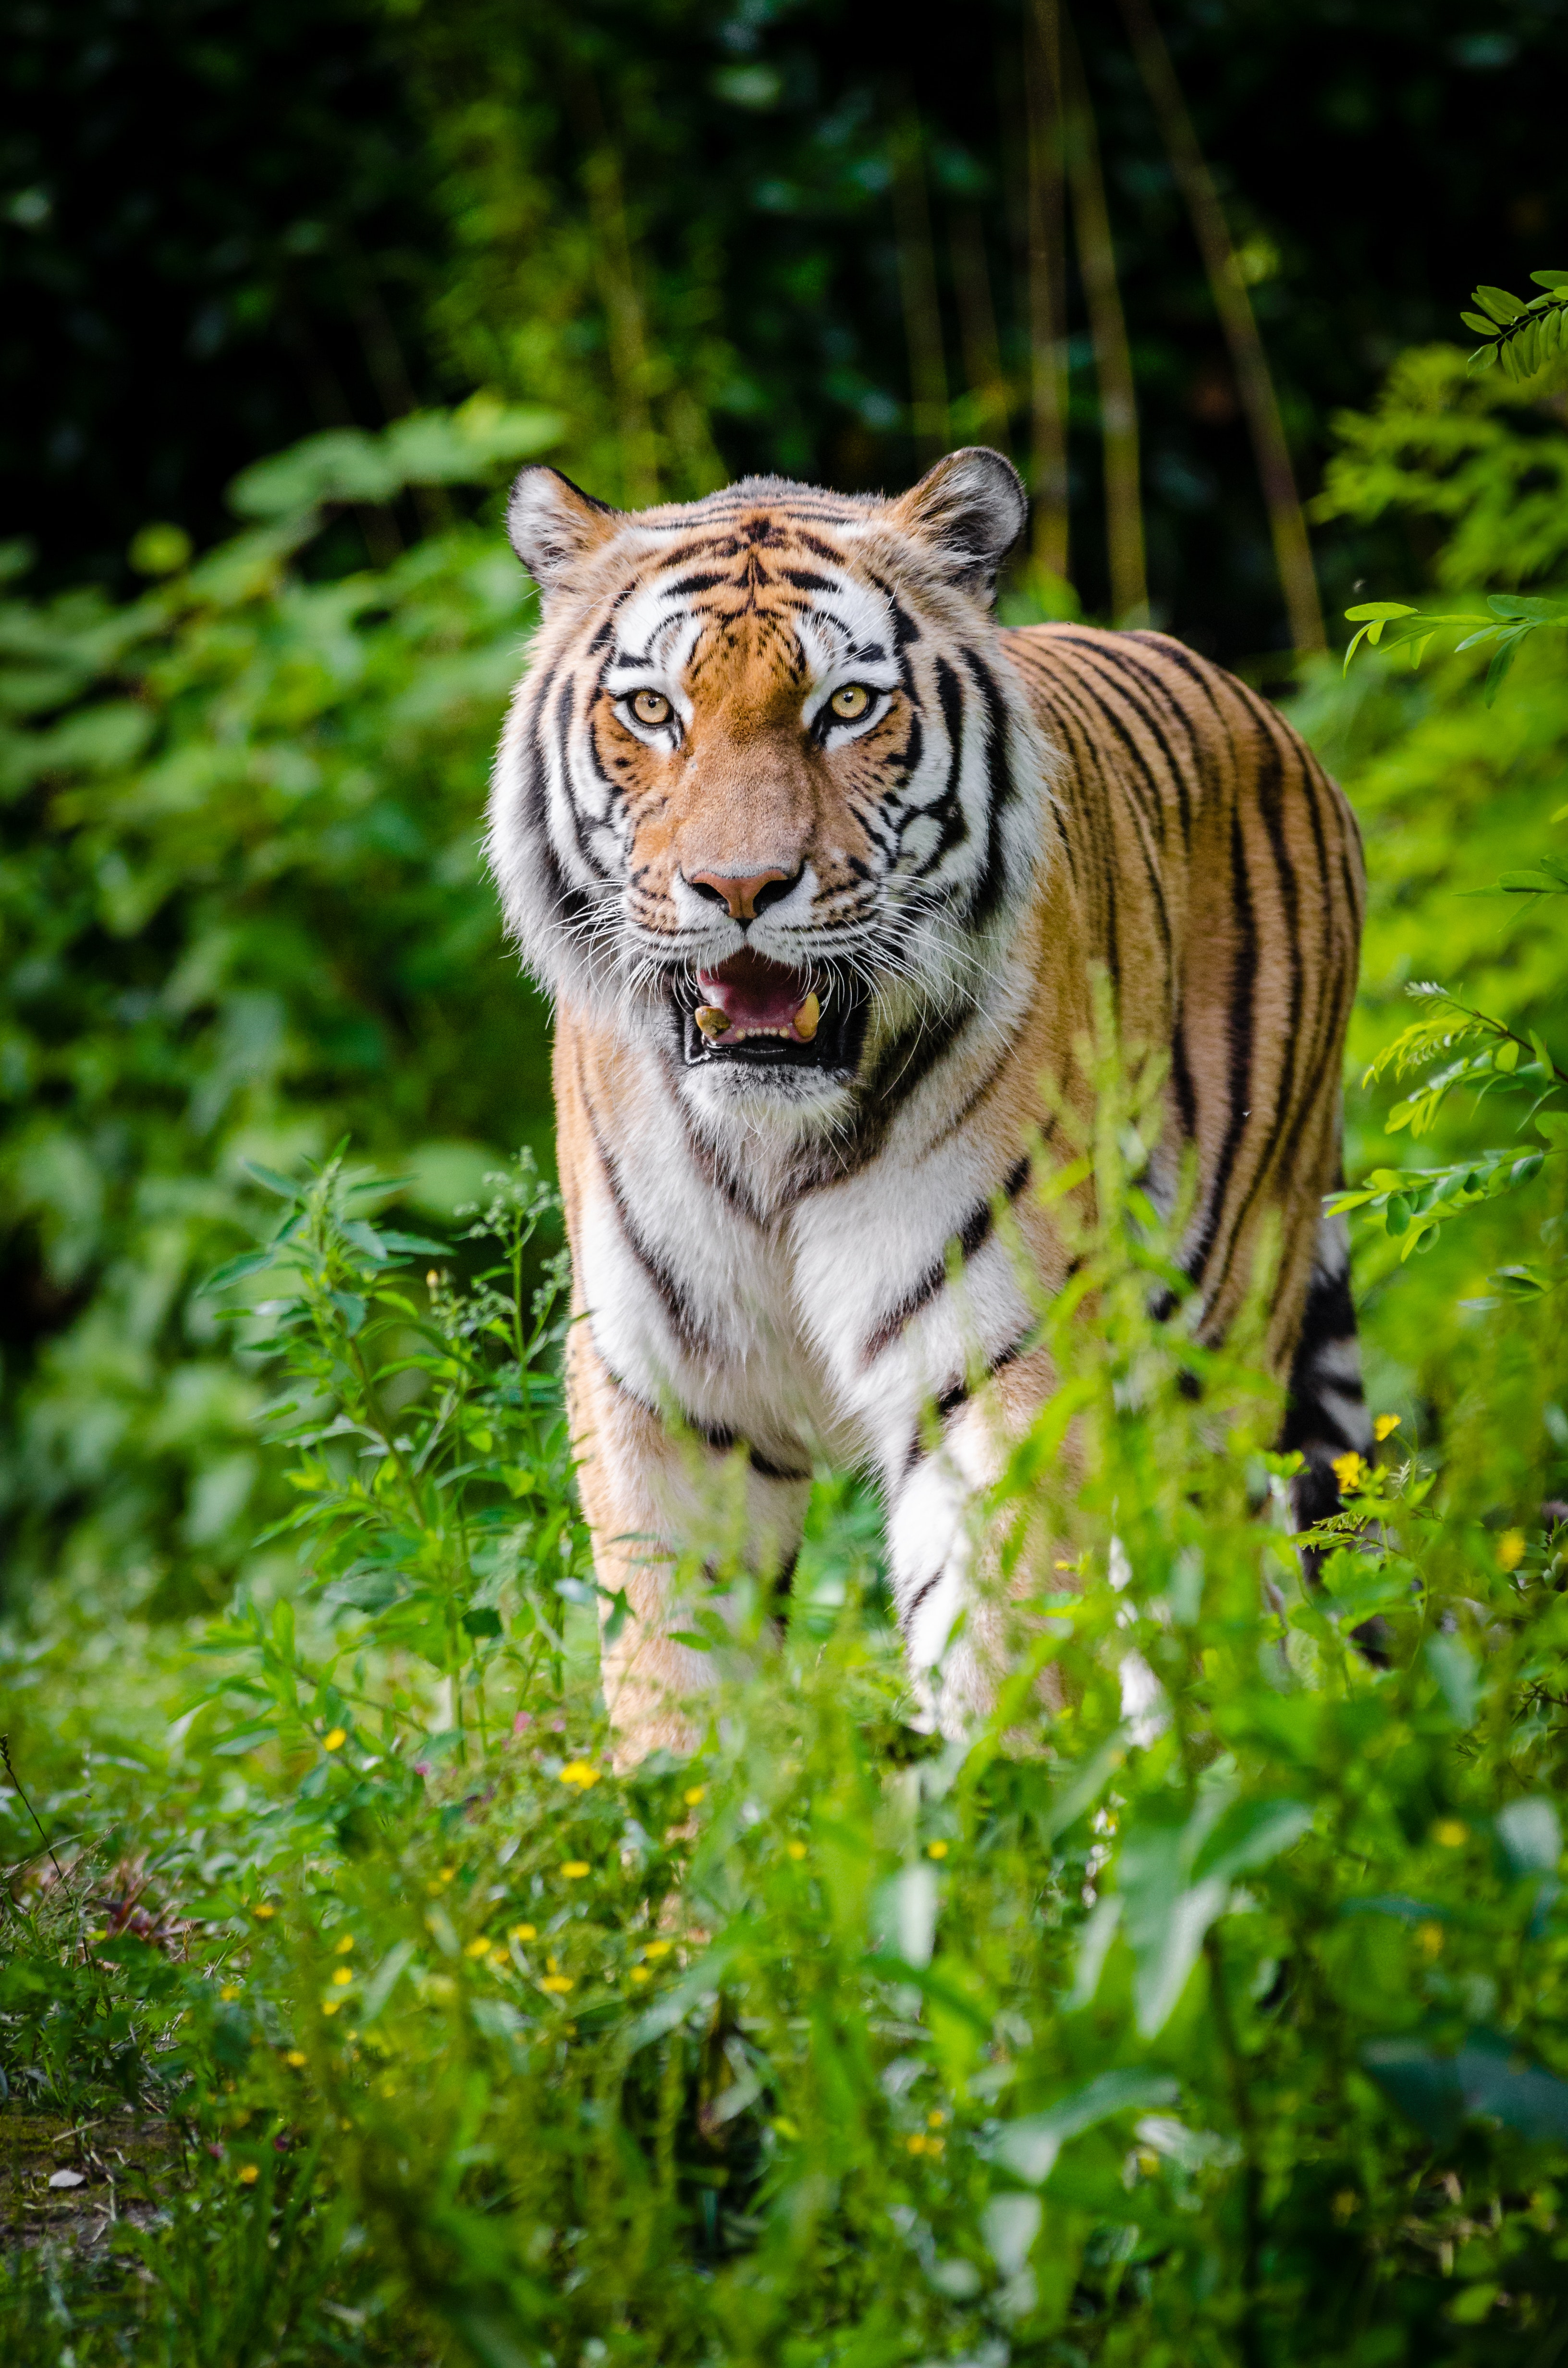tiger: (388, 355, 1440, 2046)
